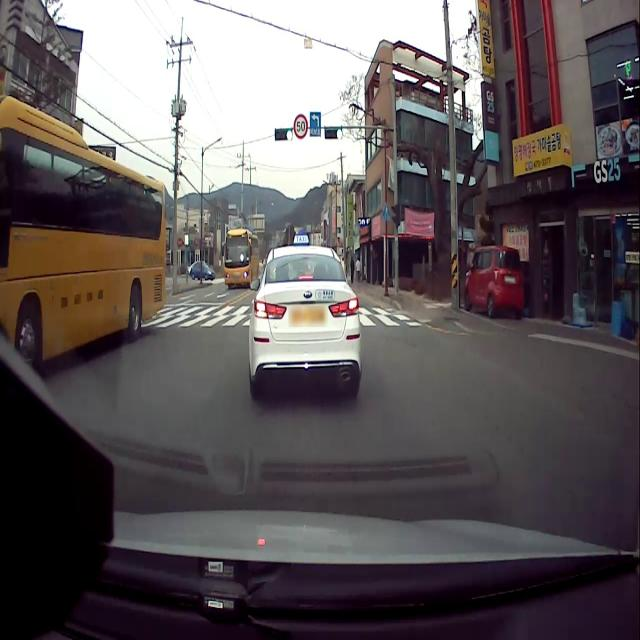Green Light: (335, 126, 344, 141), (286, 128, 293, 142)
